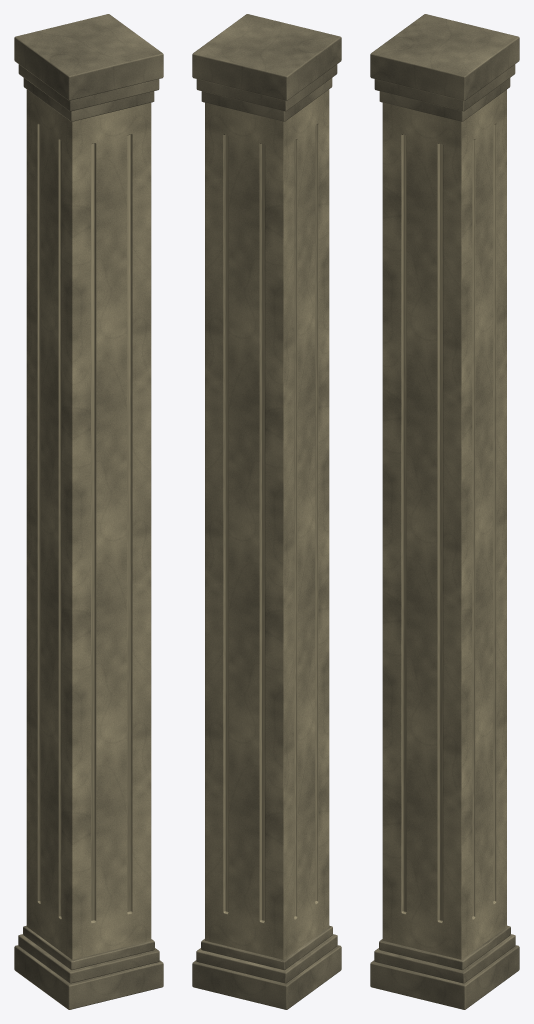
The model's file is pillar.glb.
3 renders of one model, left to right at view 1: azimuth 30°, elevation 25°; view 2: azimuth 150°, elevation 25°; view 3: azimuth 330°, elevation 25°, orthographic.
Parts seen in each view (by area): view 1: pillar_aged_limestone, pillar_limestone_molding; view 2: pillar_aged_limestone, pillar_limestone_molding; view 3: pillar_aged_limestone, pillar_limestone_molding.
Part boxes in pixels (left/top/right/bottom): pillar_aged_limestone: left=26, top=89, right=151, bottom=959; pillar_limestone_molding: left=14, top=14, right=163, bottom=1009; pillar_aged_limestone: left=205, top=89, right=329, bottom=959; pillar_limestone_molding: left=192, top=14, right=341, bottom=1009; pillar_aged_limestone: left=382, top=90, right=506, bottom=959; pillar_limestone_molding: left=370, top=14, right=519, bottom=1009.
Size of the model in its own units: 0.32 by 3 by 0.32.
Materials: 2 (2 with a texture image).
